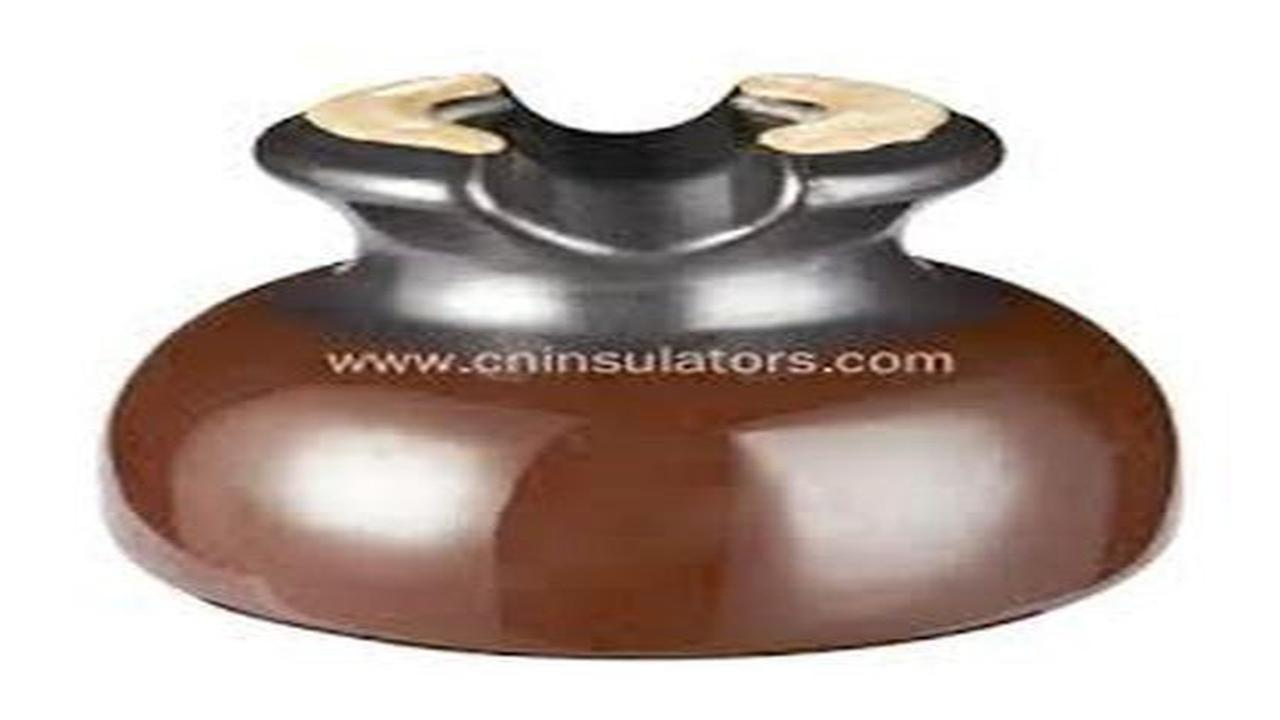insulator_pin: (90, 49, 1207, 669)
